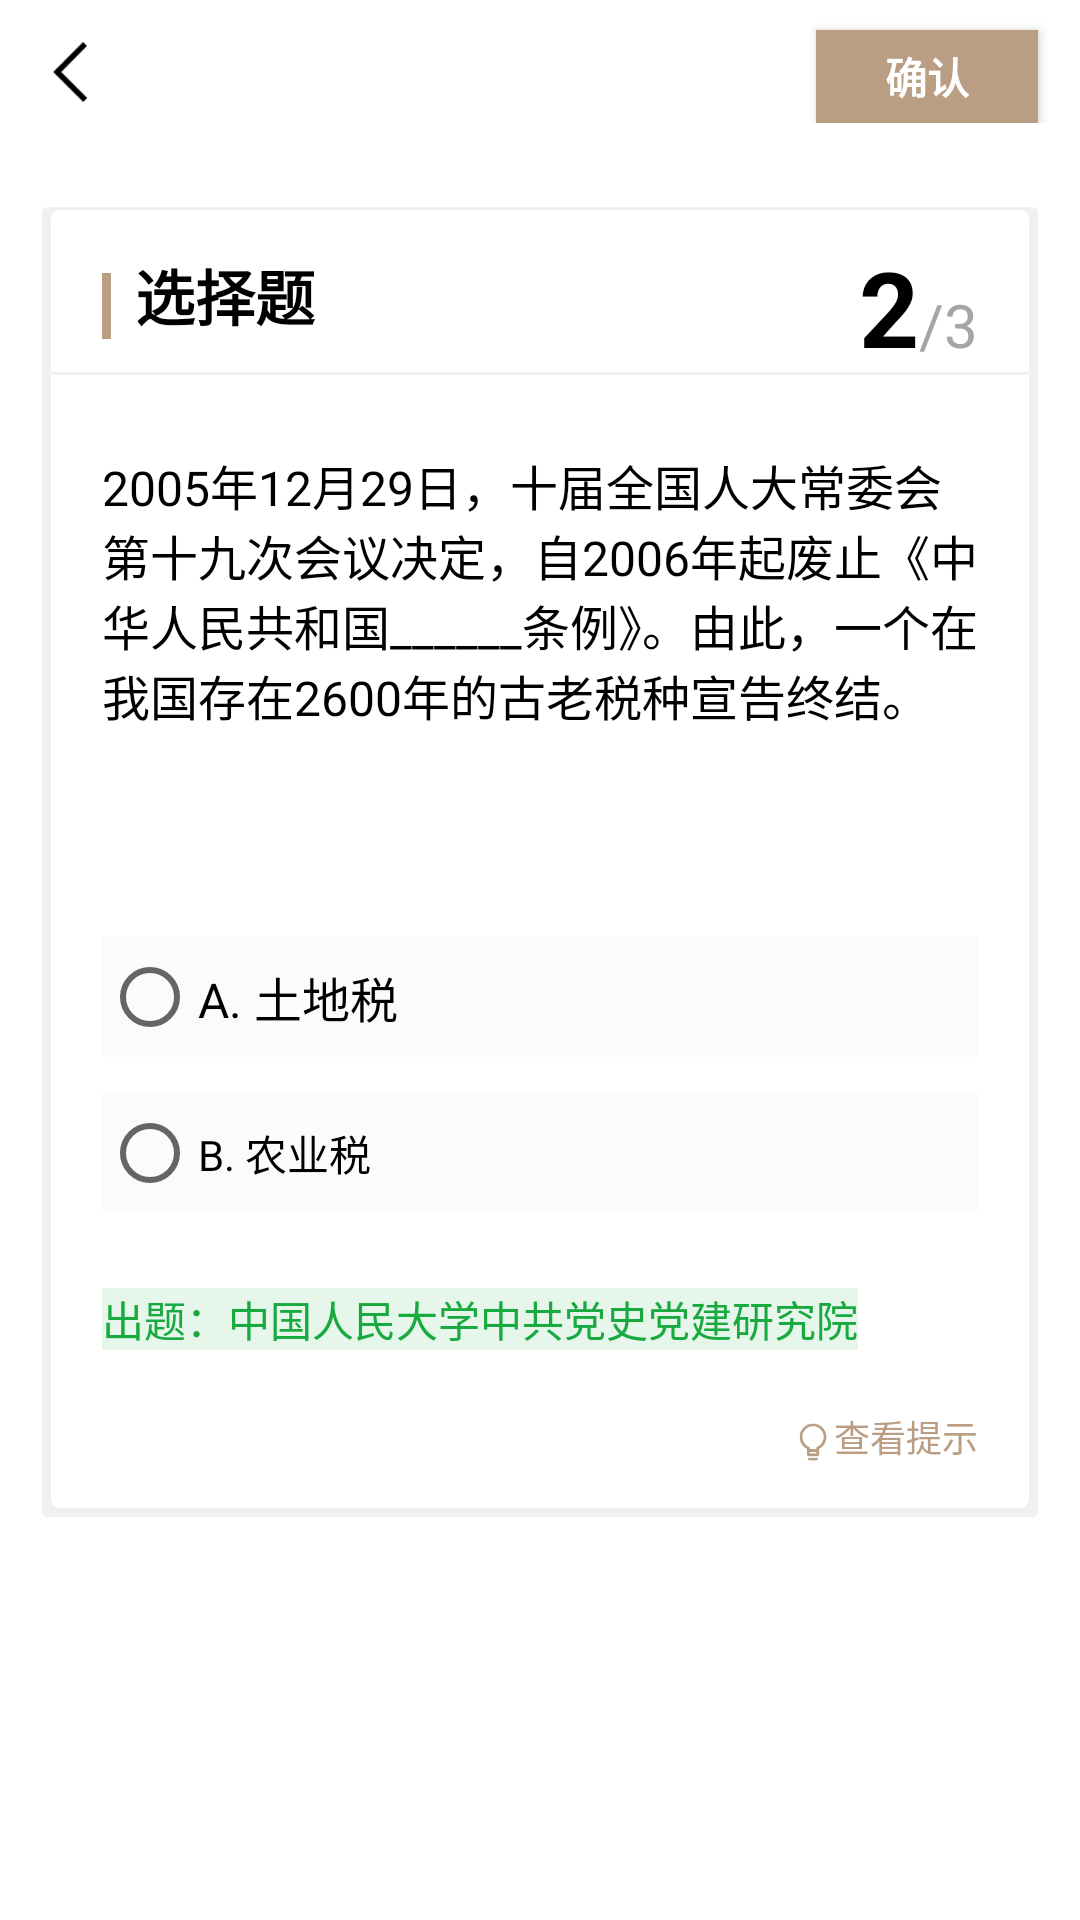

Named icons in this screenshot (1080 x 1920) and their bounding boxes, (x1, y1, x2, y2):
tis: (800, 1423, 827, 1461)
